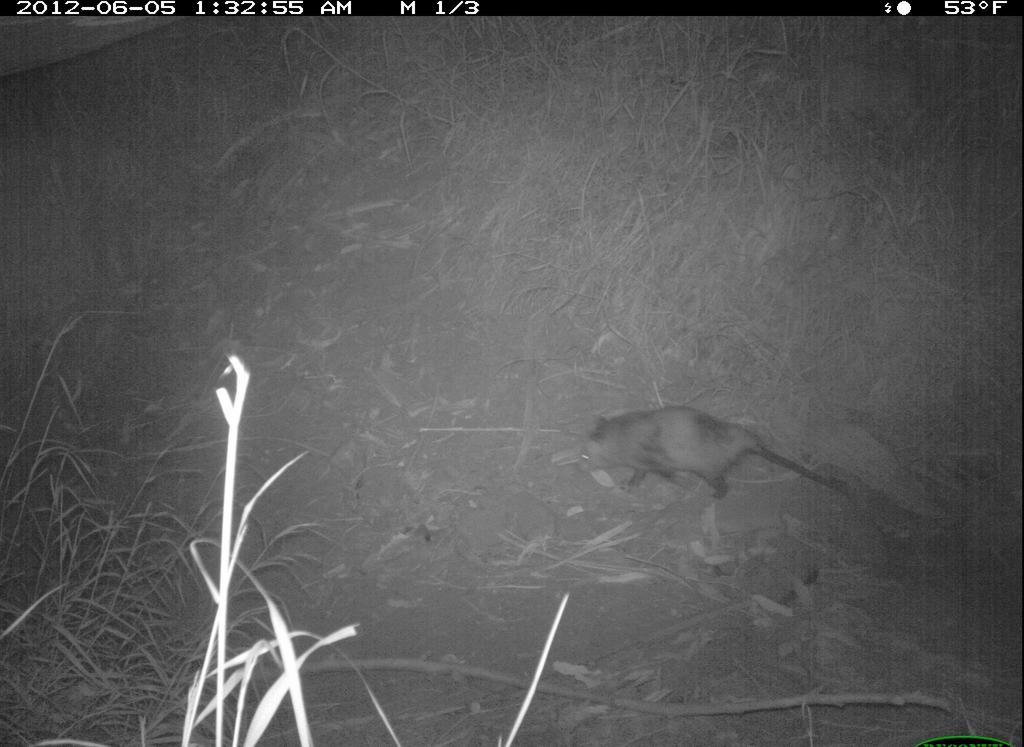opossum: (571, 399, 856, 534)
